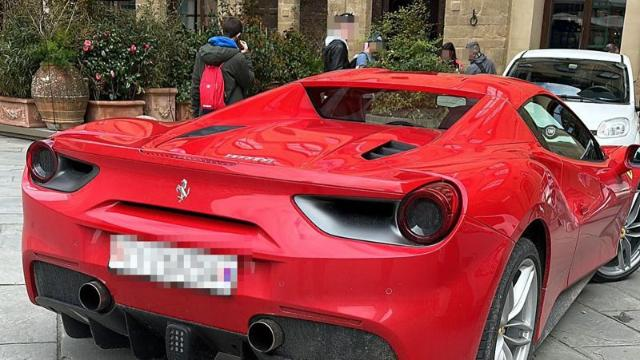ferrari: (20, 67, 639, 360)
